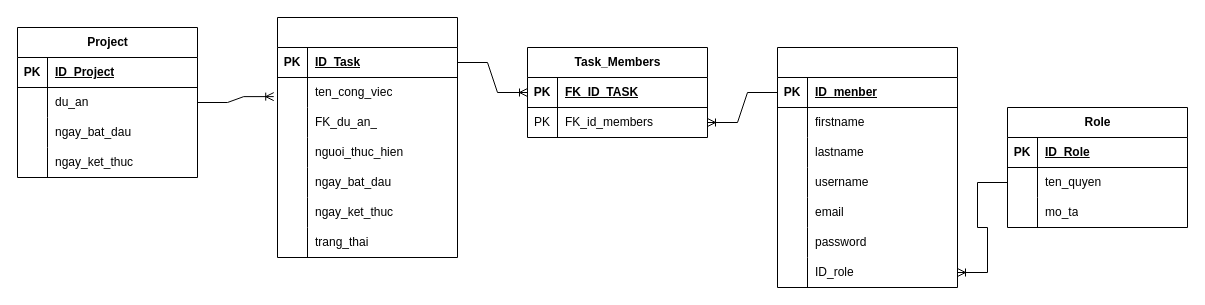
The diagram is 1205 pixels wide and 305 high, and some of its shapes have lost their labels. The box of each missing label's shape, as (x1, y1, x2, y2) in pixels:
List_Task: (276, 16, 458, 258)
Members: (776, 46, 958, 288)
